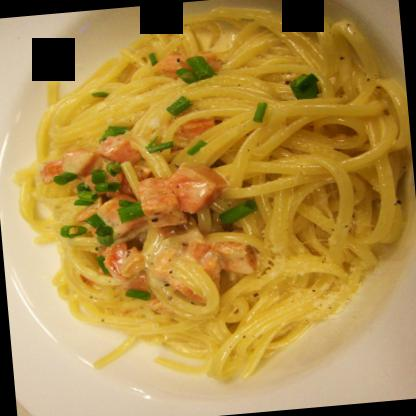pasta: (5, 0, 415, 396)
